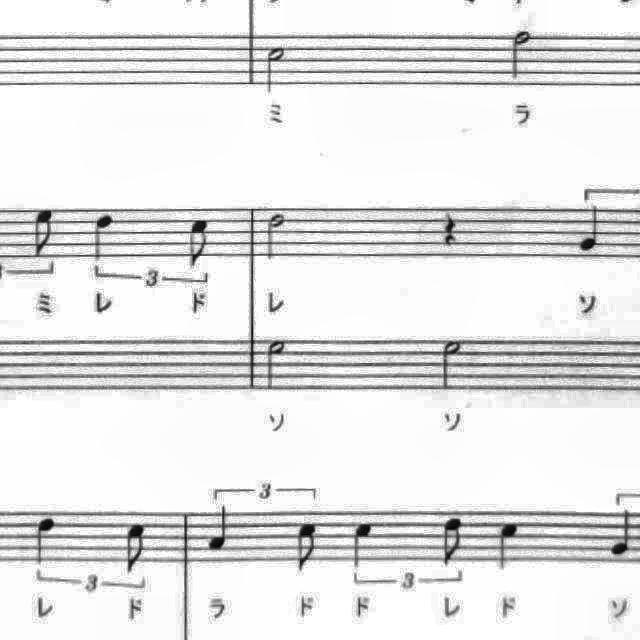Eighth-note: (288, 516, 324, 578), (180, 212, 216, 272), (436, 510, 472, 570), (26, 203, 62, 263), (120, 520, 154, 580)
Half-note: (432, 332, 470, 396), (504, 26, 540, 86), (260, 40, 296, 100), (260, 333, 294, 395), (261, 209, 293, 267)
Quarter-note: (573, 200, 611, 260), (491, 514, 527, 576), (604, 502, 640, 562), (27, 510, 62, 570), (86, 210, 122, 266), (202, 502, 238, 558), (345, 516, 379, 572)
Quarter-rest: (433, 204, 463, 252)
